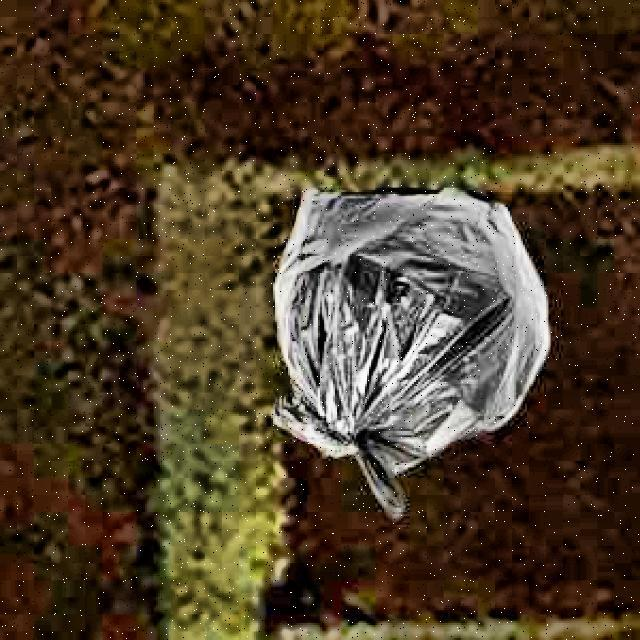Trashbag: (257, 168, 565, 510)
